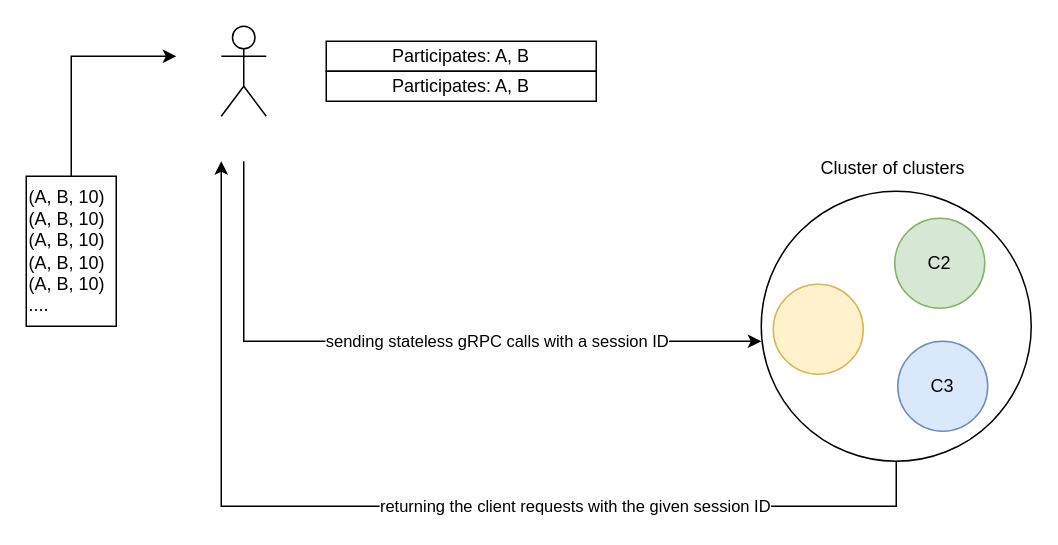
Some shapes in this 1058 by 545 pixel diagram are drawn without their labels. The centre of each missing label's shape, as x and y in pixels:
C1: [817,328]
Client: [243,70]
